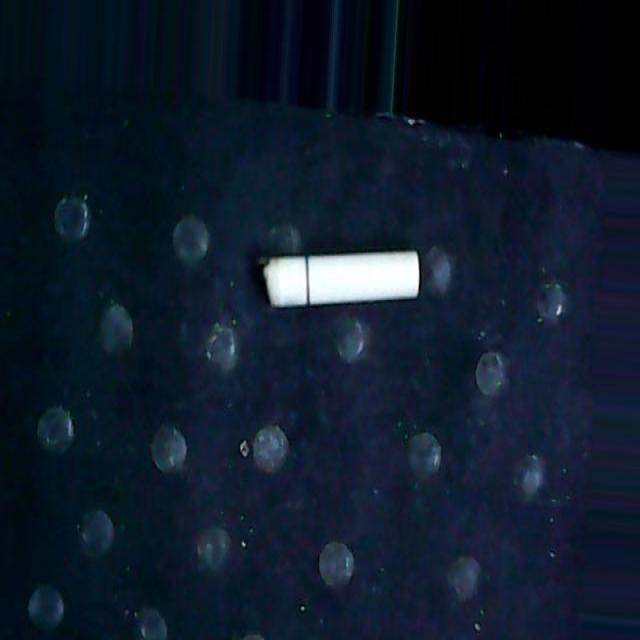-Other waste - cigarette butt-: (262, 249, 420, 307)
